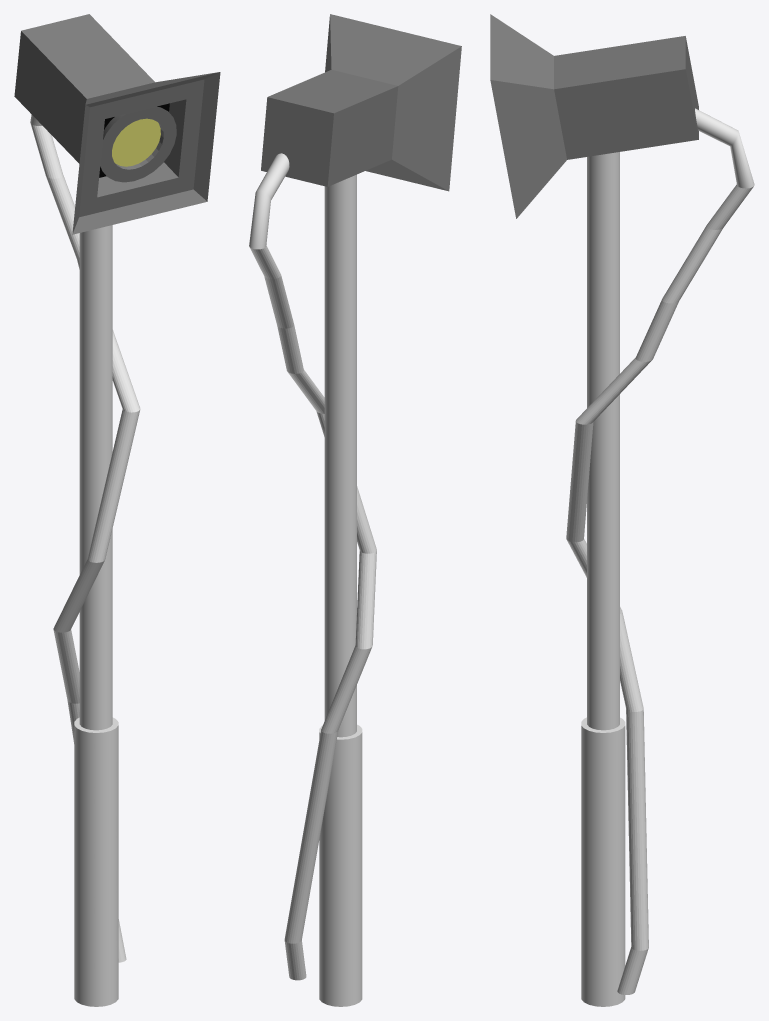
Rendered from BoxingLight.fbx.
3 renders of one model, left to right at view 1: azimuth 30°, elevation 25°; view 2: azimuth 150°, elevation 25°; view 3: azimuth 270°, elevation 25°, orthographic. The views are drawn at different scales.
Parts seen in each view (by area): view 1: Box001, Cylinder002, Cylinder001, Cone002, Cone001; view 2: Box001, Cylinder002, Cone002, Cylinder001; view 3: Box001, Cylinder002, Cone002, Cylinder001.
Part boxes in pixels (bbox=[...]): Box001: bbox=[14, 14, 220, 234]; Cylinder002: bbox=[79, 225, 112, 730]; Cylinder001: bbox=[74, 717, 118, 1006]; Cone002: bbox=[30, 114, 140, 962]; Cone001: bbox=[100, 106, 176, 182]; Box001: bbox=[261, 14, 461, 191]; Cylinder002: bbox=[324, 174, 356, 737]; Cone002: bbox=[249, 153, 376, 980]; Cylinder001: bbox=[319, 724, 362, 1006]; Box001: bbox=[490, 14, 698, 218]; Cylinder002: bbox=[587, 152, 619, 730]; Cone002: bbox=[566, 108, 754, 994]; Cylinder001: bbox=[581, 717, 625, 1006].
Bounding box in the file's own units: 30.18 × 203 × 51.12.
